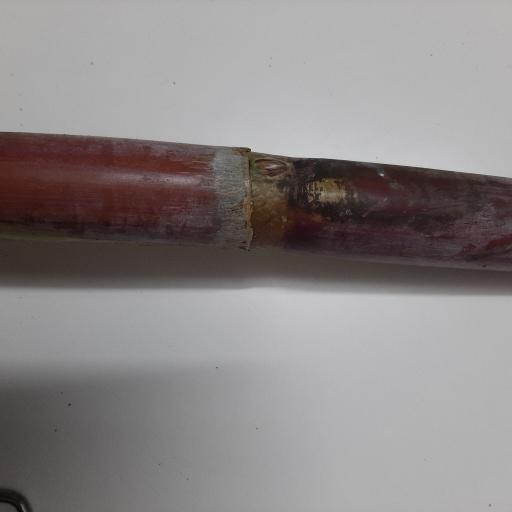Bud: (250, 154, 291, 181)
